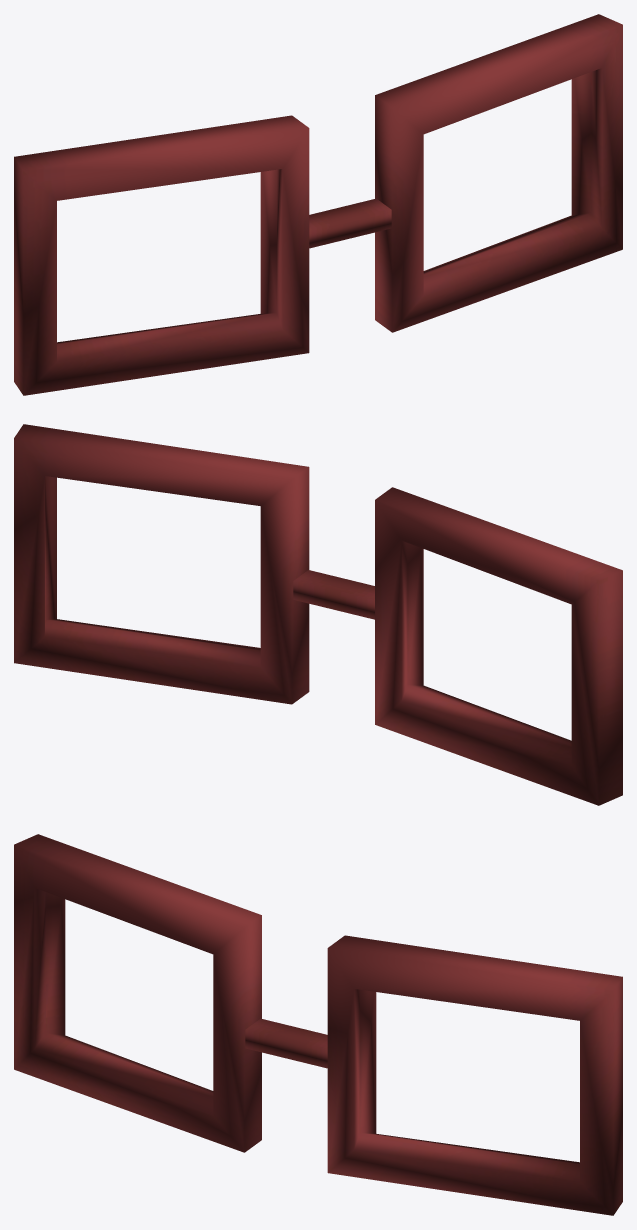
File: M_GlassesA_2.glb
The picture shows the model from 3 angles, top to bottom: view 1: azimuth 30°, elevation 25°; view 2: azimuth 150°, elevation 25°; view 3: azimuth 330°, elevation 25°; orthographic projection.
Parts seen in each view (by area): view 1: SM_GlassesA; view 2: SM_GlassesA; view 3: SM_GlassesA.
Part boxes in pixels (<box>): SM_GlassesA: <box>14,14,622,395</box>; SM_GlassesA: <box>14,424,622,805</box>; SM_GlassesA: <box>14,834,622,1215</box>.
Size of the model in its own units: 0.8678 by 0.3112 by 0.1173.
1 material, 1 textured.
